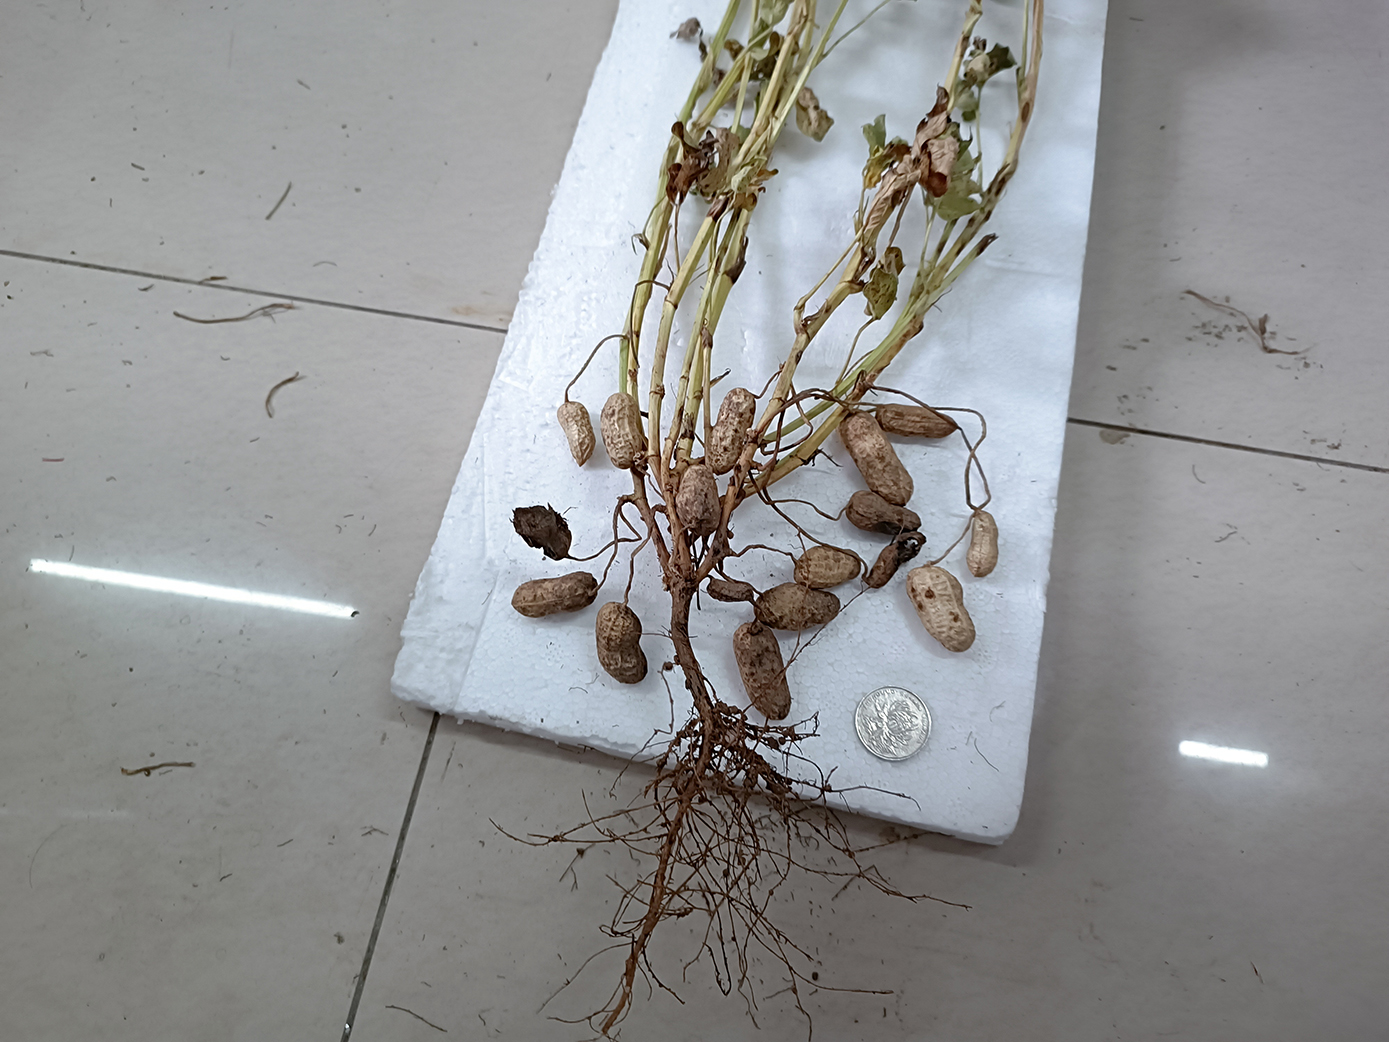h: (840, 408, 914, 505), (906, 566, 975, 652), (595, 601, 649, 684), (600, 392, 648, 468), (676, 464, 720, 534), (792, 545, 863, 588), (557, 401, 597, 467), (965, 510, 999, 578)
l: (733, 622, 792, 721), (707, 387, 756, 476), (754, 582, 841, 630), (511, 571, 598, 618), (509, 502, 571, 561), (846, 490, 922, 536), (867, 531, 926, 588), (875, 403, 959, 439), (706, 578, 753, 601)
